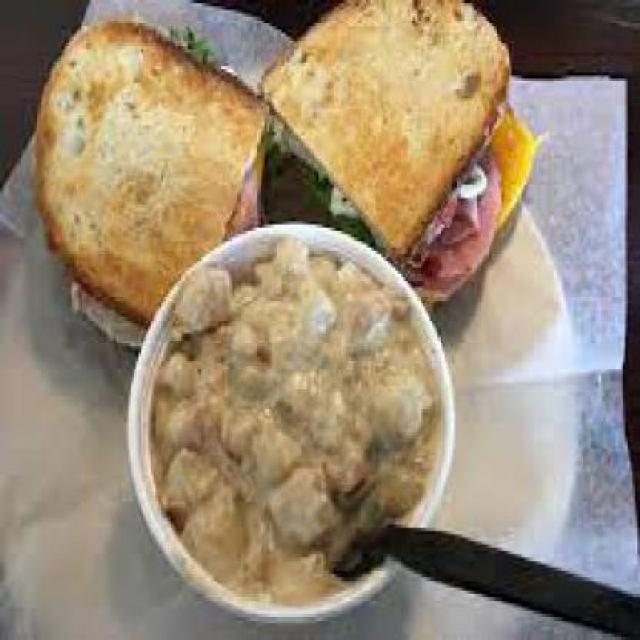clam chowder: (119, 208, 468, 614)
